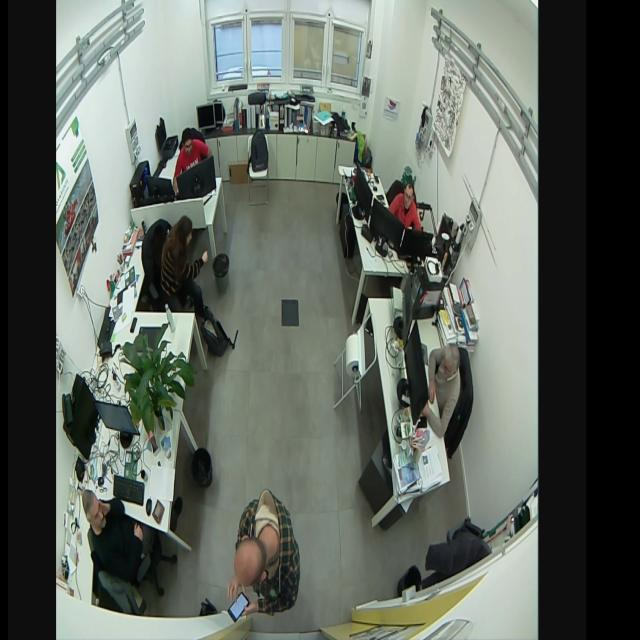Persona: (226, 486, 303, 622), (80, 483, 153, 572), (159, 211, 211, 311), (421, 342, 463, 440), (171, 121, 211, 180), (388, 174, 422, 234)
